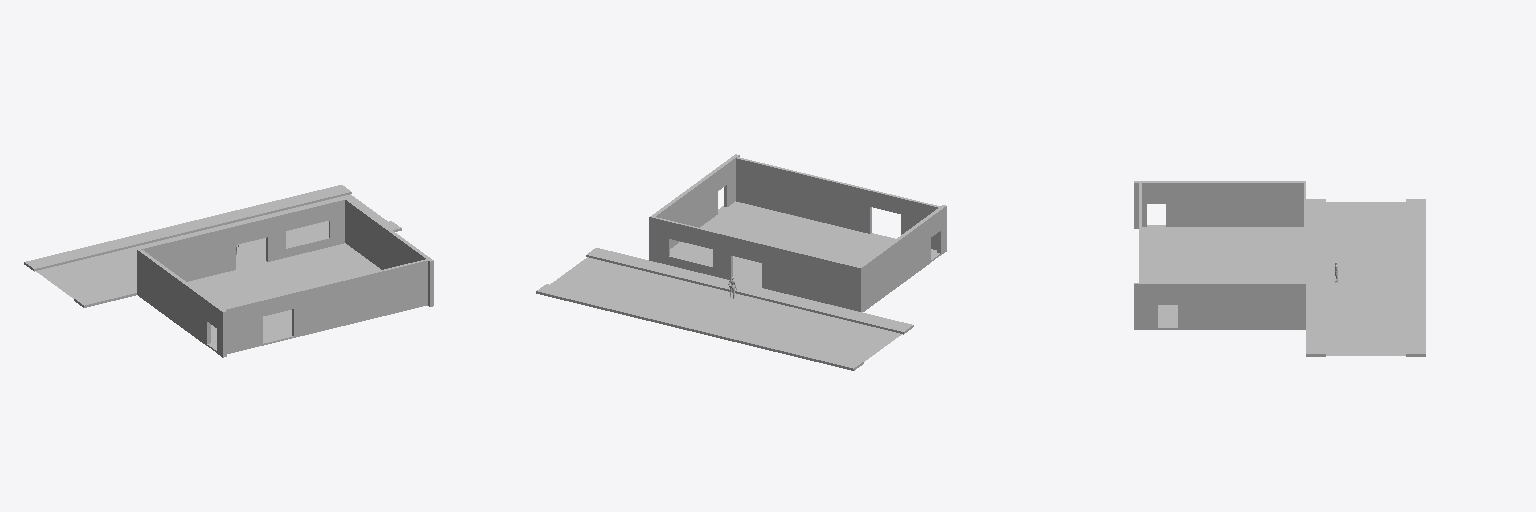
File: Carrefur_v2.obj
3 renders of one model, left to right at view 1: azimuth 30°, elevation 25°; view 2: azimuth 150°, elevation 25°; view 3: azimuth 270°, elevation 25°, orthographic.
Parts seen in each view (by area): view 1: back, piso1, fachada1, bereda, calle, pared_derecha, pared_derecha.001; view 2: calle, fachada1, bereda, back, piso1, pared_derecha, pared_derecha.001; view 3: calle, piso1, pared_derecha, pared_derecha.001, bereda.
Boxes of the visible parts, box(x1,y1,x2,y2) form: back: box(224, 259, 427, 353); piso1: box(187, 243, 427, 353); fachada1: box(137, 198, 348, 293); bereda: box(24, 185, 401, 307); calle: box(36, 194, 387, 298); pared_derecha: box(137, 250, 226, 357); pared_derecha.001: box(345, 199, 433, 306); calle: box(550, 257, 901, 361); fachada1: box(649, 216, 861, 311); bereda: box(536, 248, 913, 370); back: box(736, 157, 940, 249); piso1: box(670, 201, 940, 287); pared_derecha: box(859, 205, 946, 311); pared_derecha.001: box(652, 154, 739, 248); calle: box(1326, 202, 1405, 355); piso1: box(1139, 225, 1305, 329); pared_derecha: box(1134, 181, 1303, 228); pared_derecha.001: box(1134, 283, 1303, 329); bereda: box(1306, 199, 1425, 356).
Bounding box in the file's own units: 31.17 × 4.33 × 24.78.